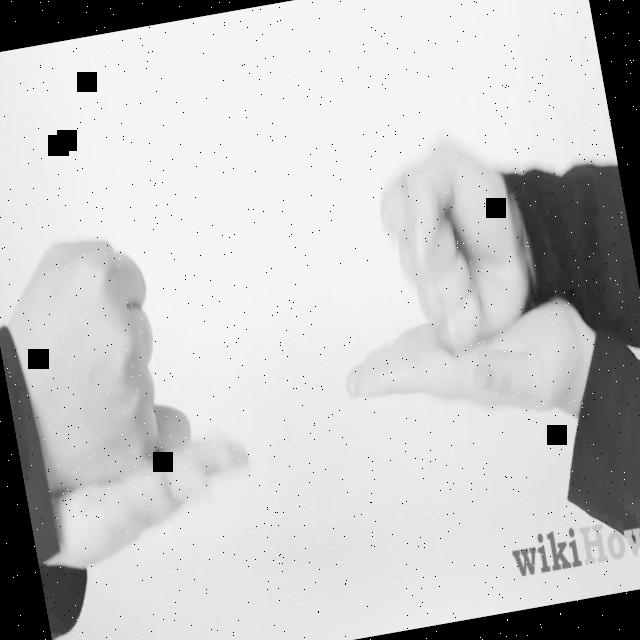Rock: (0, 227, 179, 492), (367, 126, 540, 364)
